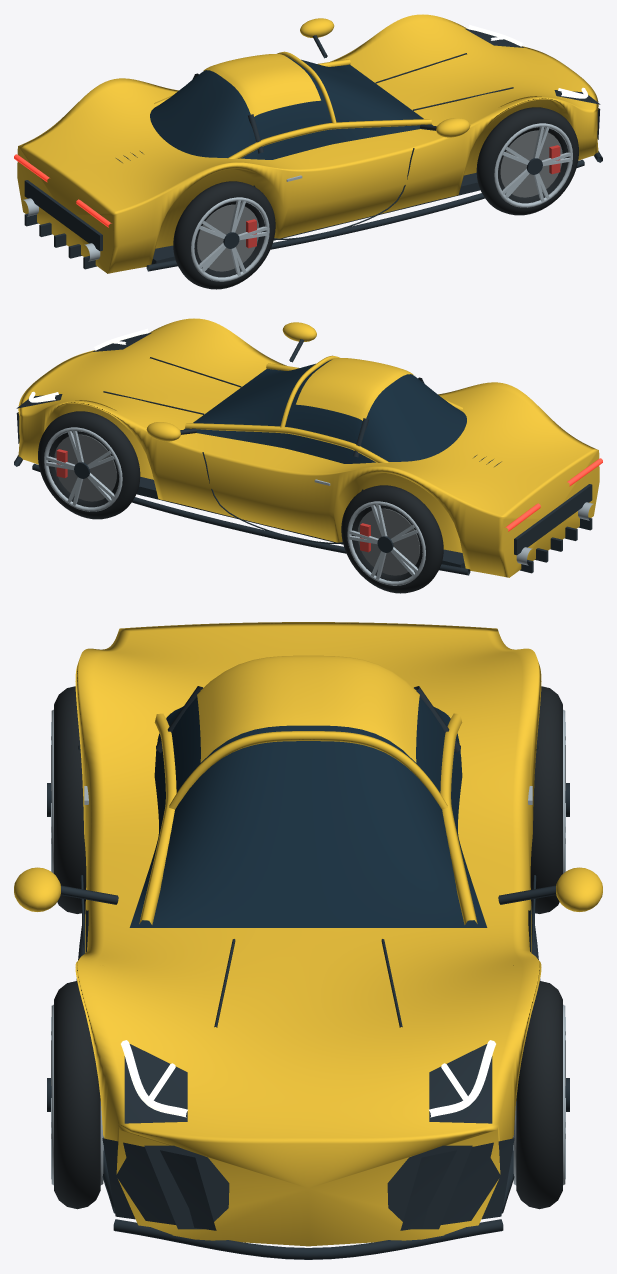
File: car16.glb
3 renders of one model, top to bottom at view 1: azimuth 30°, elevation 25°; view 2: azimuth 150°, elevation 25°; view 3: azimuth 270°, elevation 25°, orthographic. The views are drawn at different scales.
Parts seen in each view (by area): view 1: continuous-sculpted-body, CAR16, curved-windows, roof-panel; view 2: continuous-sculpted-body, CAR16, curved-windows, roof-panel; view 3: continuous-sculpted-body, CAR16, curved-windows, roof-panel.
Part boxes in pixels (x1=…): continuous-sculpted-body: x1=17, y1=14, x2=598, y2=273; CAR16: x1=14, y1=18, x2=602, y2=289; curved-windows: x1=150, y1=56, x2=432, y2=159; roof-panel: x1=203, y1=54, x2=320, y2=116; continuous-sculpted-body: x1=18, y1=318, x2=599, y2=577; CAR16: x1=14, y1=322, x2=602, y2=593; curved-windows: x1=184, y1=360, x2=466, y2=463; roof-panel: x1=296, y1=358, x2=413, y2=420; continuous-sculpted-body: x1=75, y1=622, x2=541, y2=1246; CAR16: x1=14, y1=686, x2=602, y2=1259; curved-windows: x1=129, y1=697, x2=487, y2=927; roof-panel: x1=197, y1=655, x2=419, y2=762.
Size of the model in its own units: 4.52 by 1.3 by 2.22.
